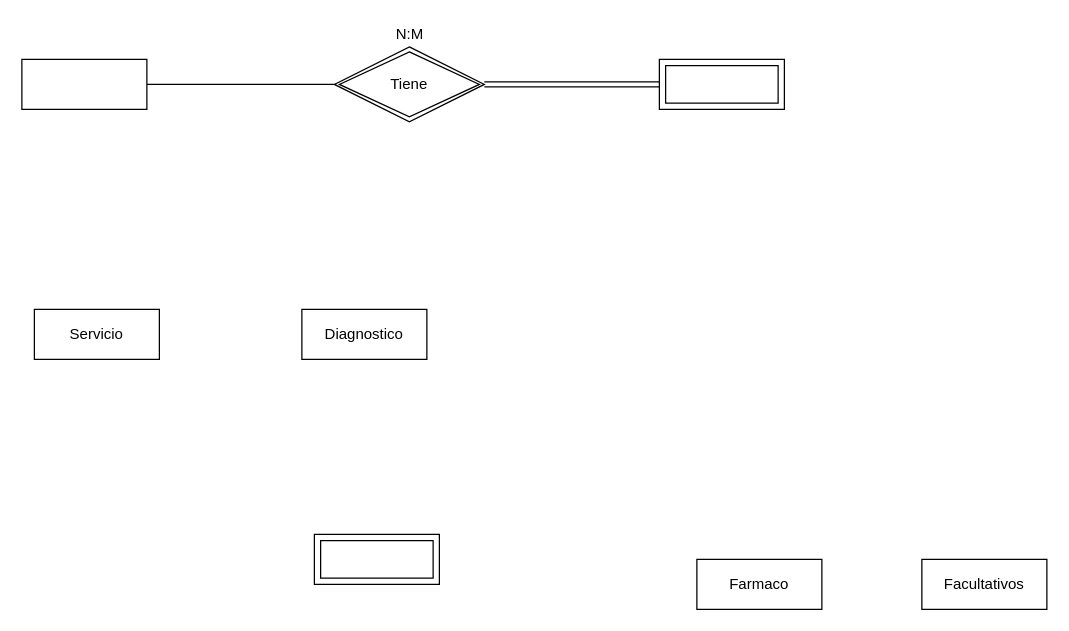
Image size: 1069x631. Some labels were removed from this diagram. Each missing label, with the box of its shape:
Ingreso: (658, 58, 784, 109)
Paciente: (21, 58, 147, 109)
Vademecum: (313, 533, 439, 584)
